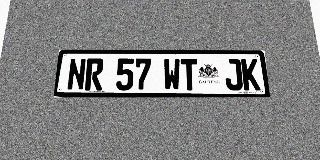5: (116, 58, 134, 90)
7: (134, 58, 151, 90)
J: (224, 59, 243, 90)
K: (241, 59, 260, 90)
N: (66, 58, 86, 90)
R: (85, 58, 104, 90)
T: (180, 59, 198, 90)
W: (163, 59, 181, 90)
